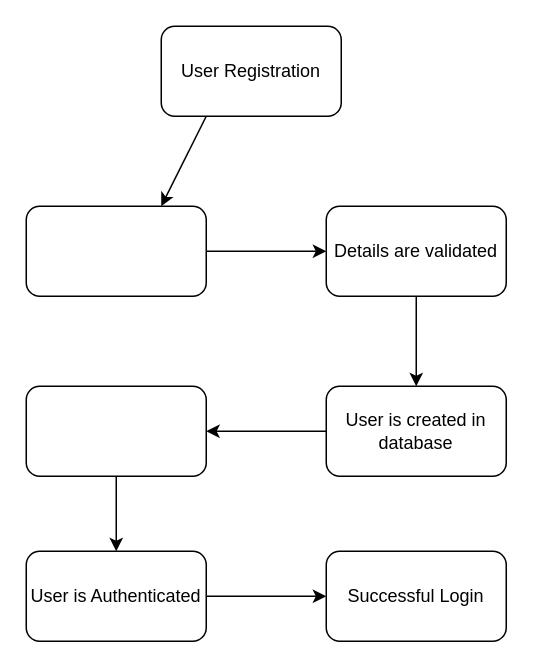
The diagram is 533 pixels wide and 668 high, and some of its shapes have lost their labels. Each missing label, with the centre of its shape:
User Fills in Details: point (115, 250)
User Logins in: point (115, 430)
